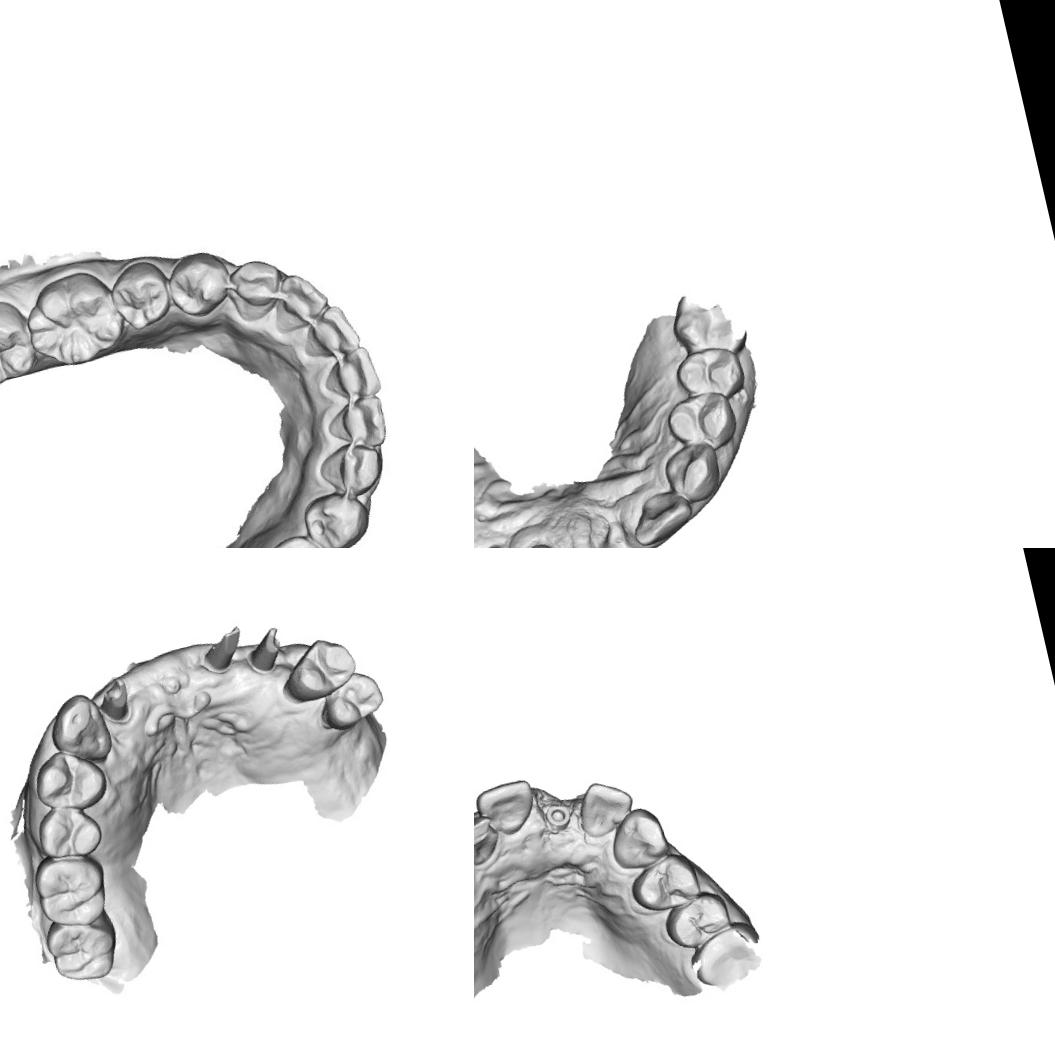abutment: (192, 618, 252, 679), (237, 620, 292, 680), (94, 670, 140, 729)
canine: (42, 686, 120, 774), (603, 802, 676, 874), (656, 438, 727, 510), (224, 252, 288, 327), (314, 440, 386, 502)
implant: (540, 800, 576, 835)
incisor: (625, 484, 701, 548), (268, 266, 334, 338), (572, 774, 640, 842), (474, 774, 542, 841), (326, 387, 394, 452), (301, 302, 364, 367), (322, 342, 386, 405), (474, 811, 506, 872)
molar: (20, 268, 127, 378), (662, 280, 754, 368), (29, 848, 114, 933), (39, 909, 128, 989), (688, 929, 767, 991), (0, 297, 41, 398)
premolar: (274, 630, 364, 708), (661, 384, 748, 458), (26, 742, 112, 816), (159, 242, 237, 323), (311, 664, 390, 737), (666, 340, 750, 406), (108, 252, 174, 335), (659, 886, 736, 954), (627, 852, 708, 914), (33, 798, 108, 864), (302, 487, 373, 548), (261, 528, 329, 548)
